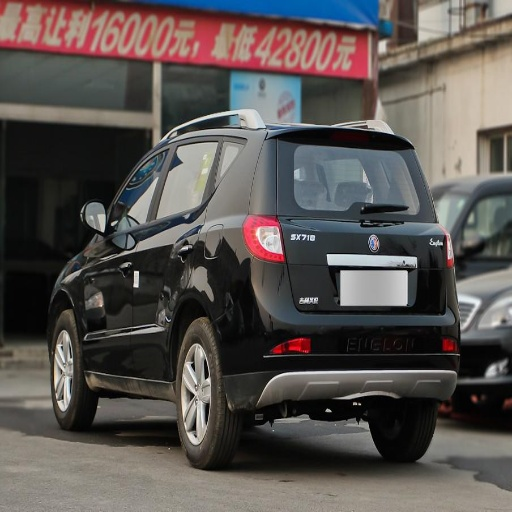back_bumper: (225, 261, 459, 407)
back_glass: (263, 134, 432, 221)
back_left_door: (132, 139, 208, 376)
tailgate: (280, 212, 447, 320)
trunk: (381, 257, 446, 346), (283, 213, 383, 261)
